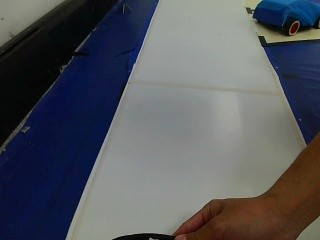car: (250, 1, 318, 42)
